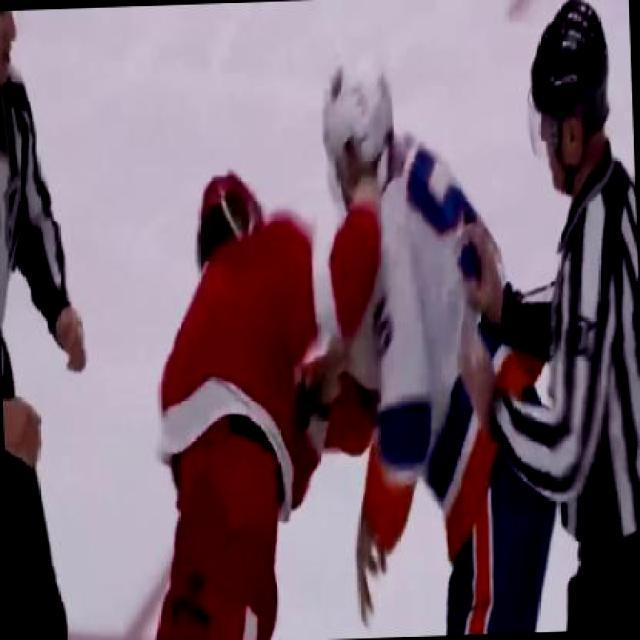fight: (150, 56, 486, 595)
